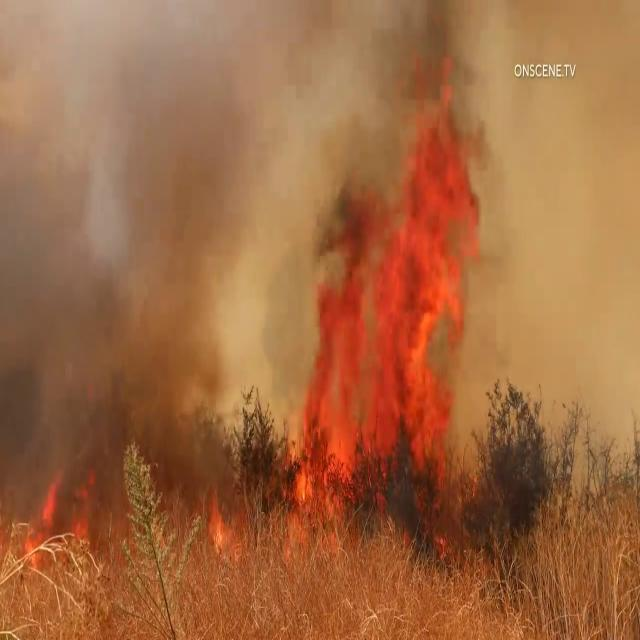Fire: (293, 89, 487, 506), (0, 464, 68, 606)
Smoke: (0, 1, 301, 474), (469, 0, 640, 494)
